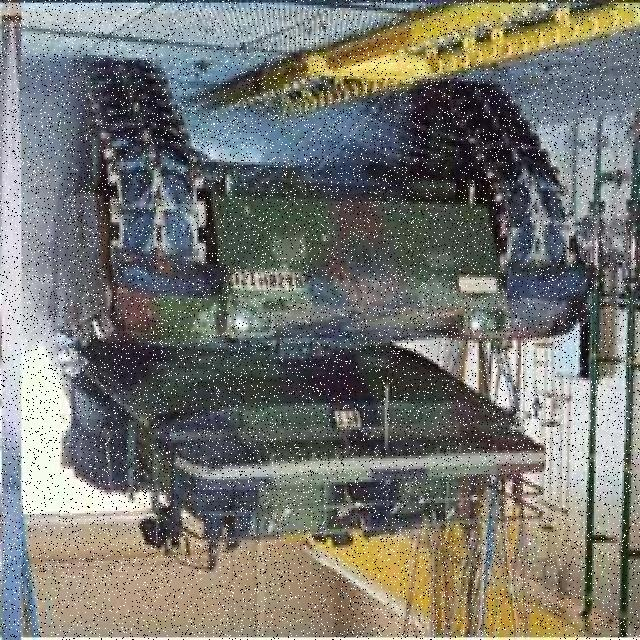MIL_MBT: (61, 87, 569, 566)
